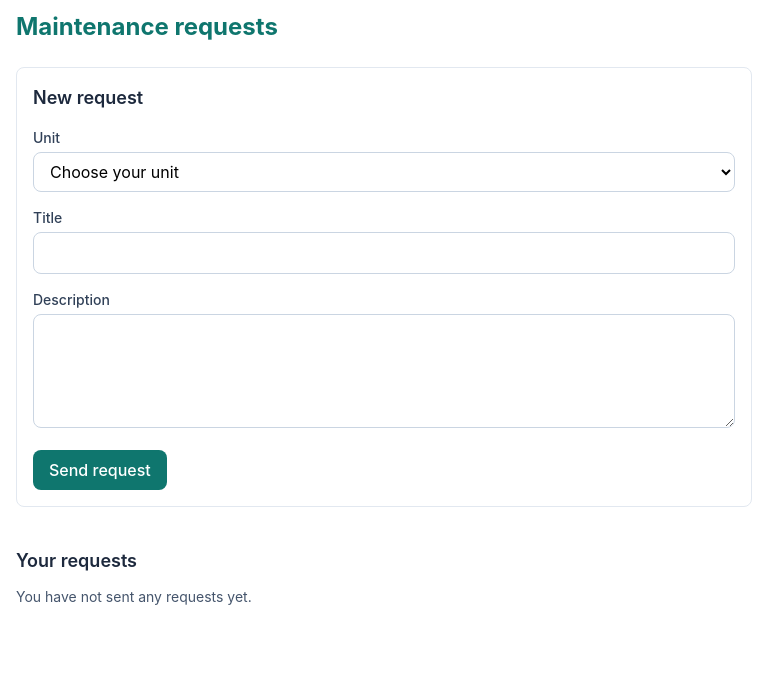
Test case: Tenant Maintenance page › sends a request
The width and height of the screenshot is (769, 682).
Select "A1 - Sunrise" in the dropdown labelled "Unit" at (384, 172), box [33,152,735,192]
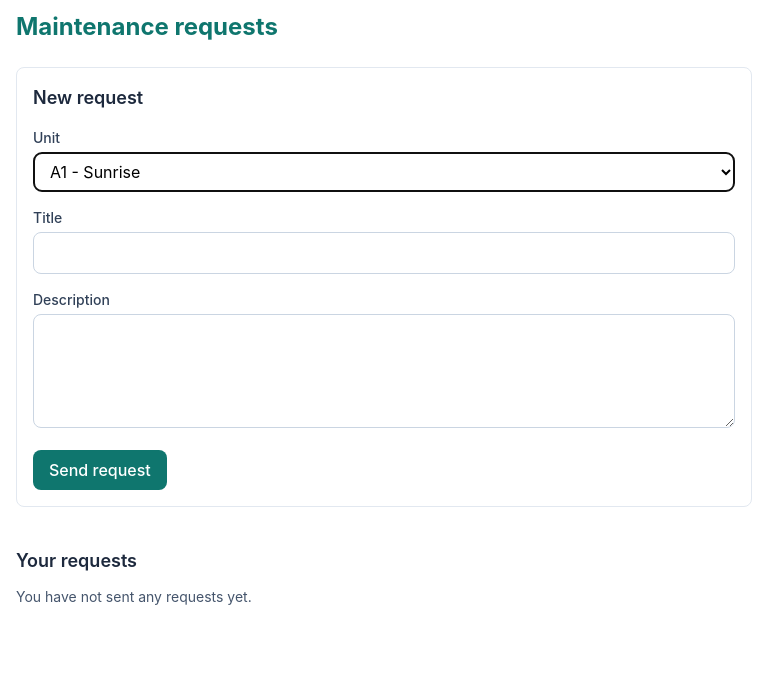
Type "Leaking tap" into the field labelled "Title".
click(384, 253); type("Leaking tap")  # box [33,232,735,274]
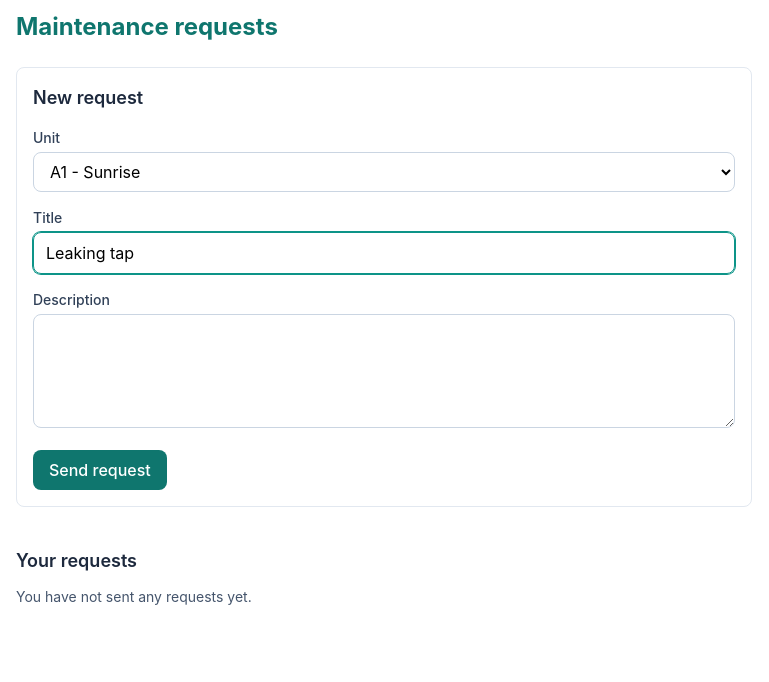
Type "Kitchen tap drips" into the text box labelled "Description".
click(384, 371); type("Kitchen tap drips")  # box [33,314,735,428]
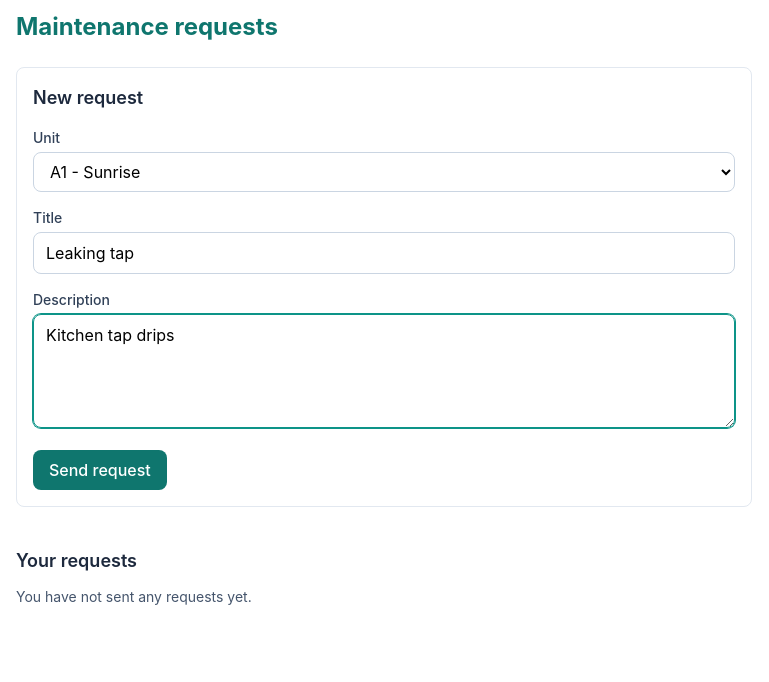
Click the button "Send request".
click(100, 470)  # box [33,450,167,490]
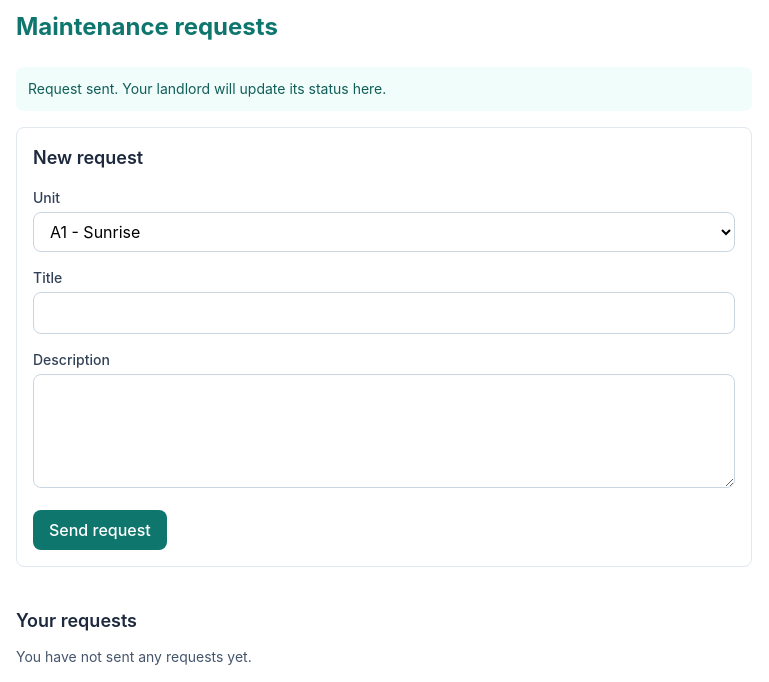
Now the message shows "Request sent", box [28,80,386,97]
